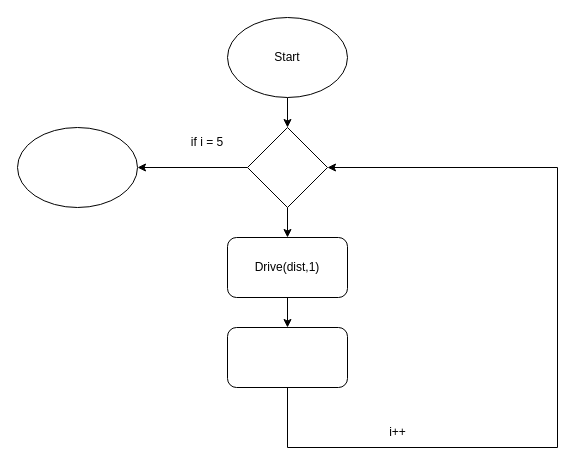
The diagram is 583 pixels wide and 473 high, and some of its shapes have lost their labels. Here are the shapes that lost their labels. From the top down, the centre of each, then its label:
point 77,167: Stop
point 287,357: Drive(dist,-1)
